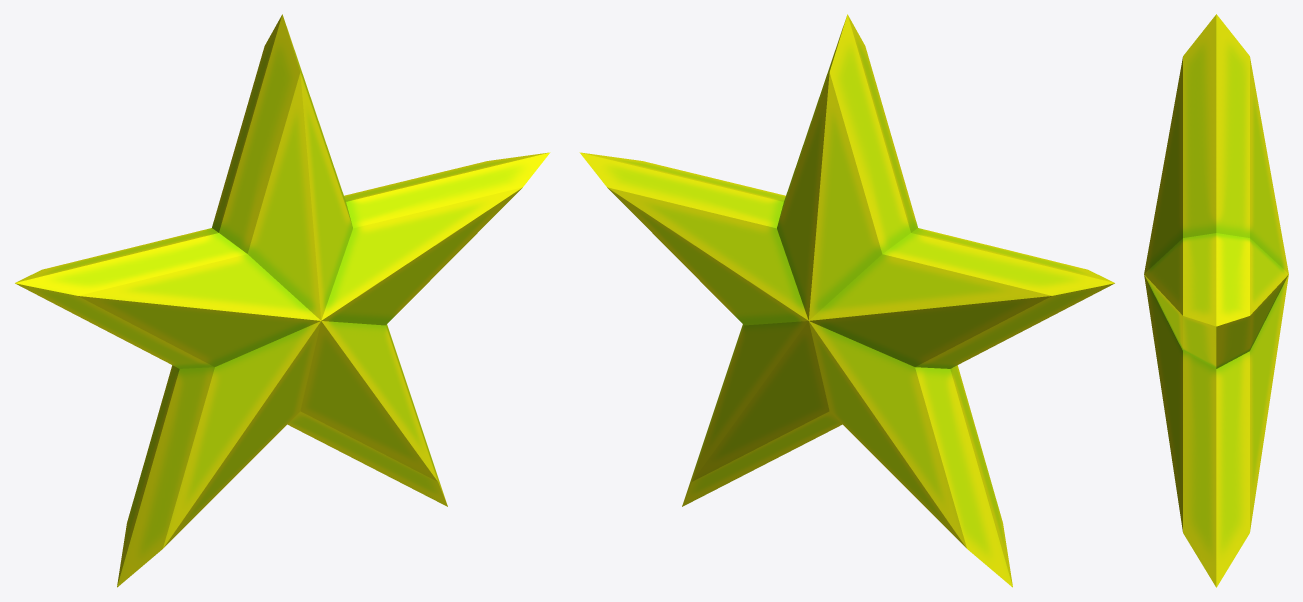
Rendered from POIStar.fbx.
3 renders of one model, left to right at view 1: azimuth 30°, elevation 25°; view 2: azimuth 150°, elevation 25°; view 3: azimuth 270°, elevation 25°, orthographic. The views are drawn at different scales.
Parts seen in each view (by area): view 1: POIStar; view 2: POIStar; view 3: POIStar.
Part boxes in pixels (<box>): POIStar: <box>15,14,550,587</box>; POIStar: <box>579,14,1114,587</box>; POIStar: <box>1144,14,1288,587</box>.
Size of the model in its own units: 4.96 by 4.72 by 1.24.
